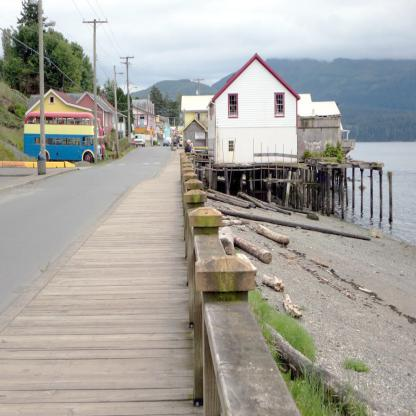Bus: (25, 112, 104, 164), (26, 116, 104, 158)
